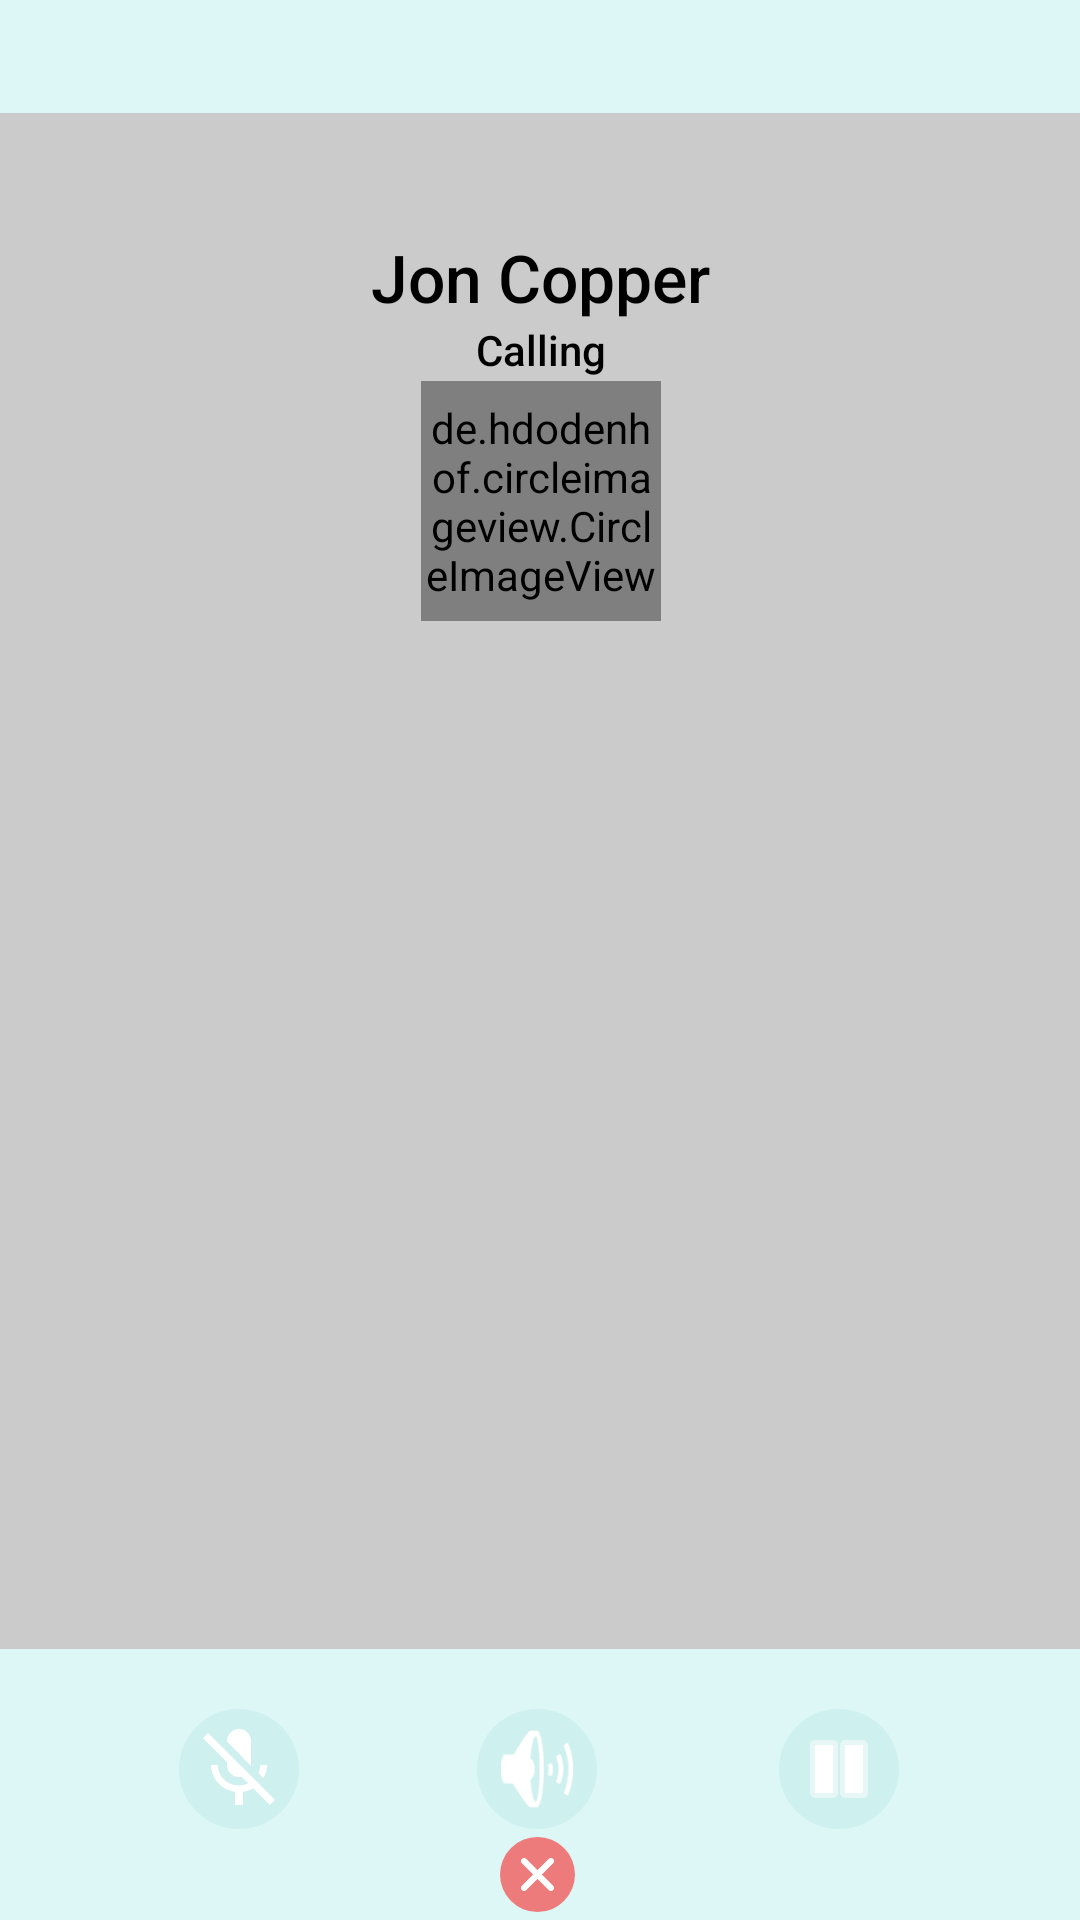

Locate icon controls on the screen. Image size 1080px×1920px, boxes as [left=x1, top=y1, right=x2, bottom=y2].
call mute: [left=179, top=1709, right=299, bottom=1829]
cross: [left=500, top=1837, right=575, bottom=1912]
pause: [left=815, top=1745, right=863, bottom=1793]
